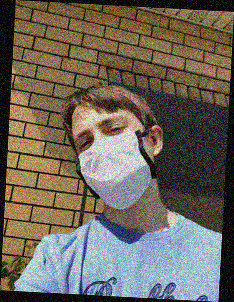with_mask: (68, 113, 161, 209)
